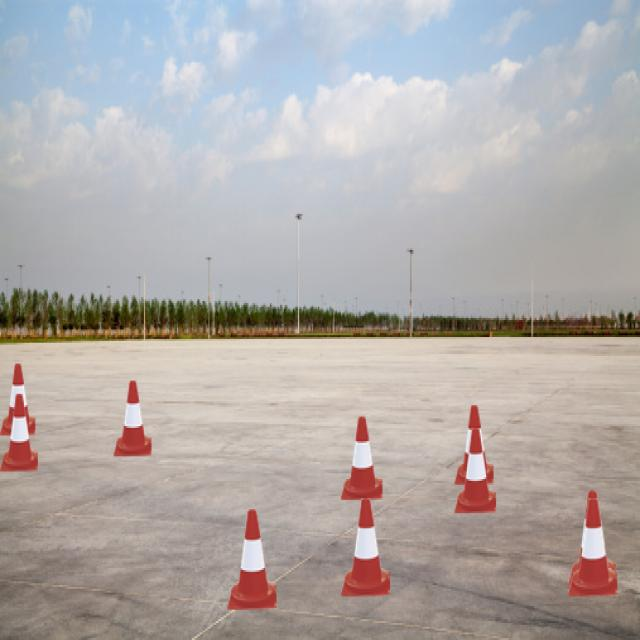orange_cone: (228, 509, 276, 610), (568, 498, 617, 596), (341, 498, 390, 596), (568, 490, 616, 587), (455, 428, 496, 513), (341, 416, 382, 500), (454, 405, 494, 485), (0, 394, 38, 471), (114, 381, 152, 456), (0, 363, 35, 435)
